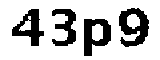3: (49, 5, 79, 50)
4: (7, 5, 47, 52)
9: (115, 8, 152, 54)
p: (80, 14, 113, 60)
